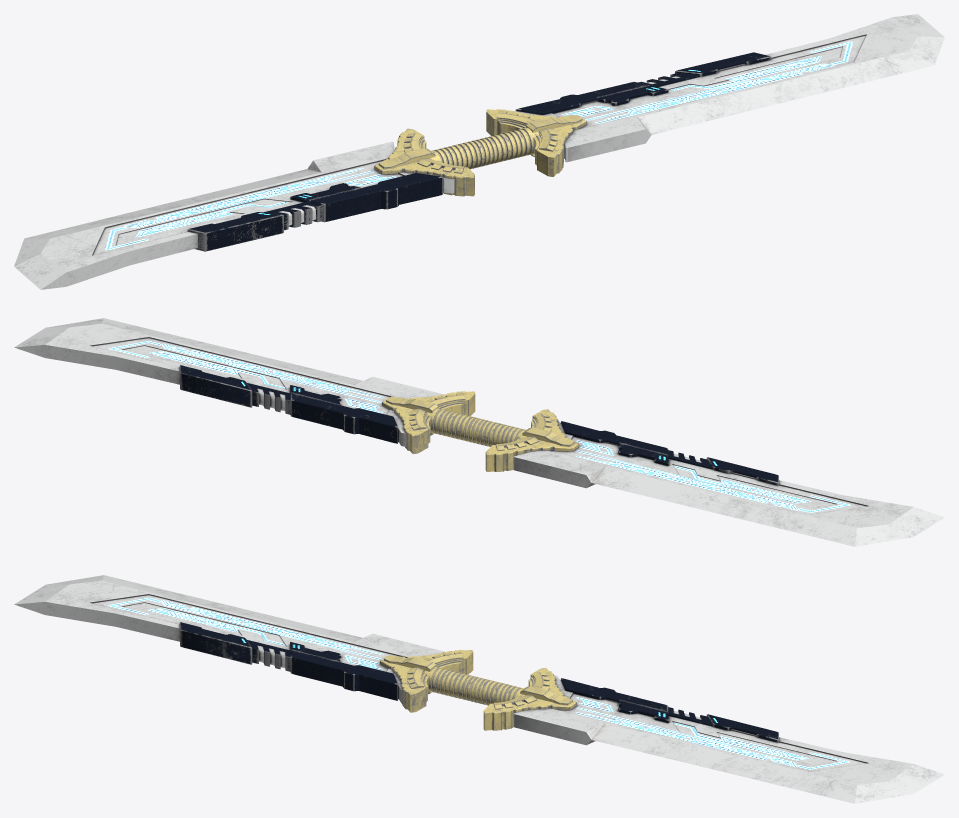
3 views of the same model, one above another, from view 1: azimuth 30°, elevation 25°; view 2: azimuth 150°, elevation 25°; view 3: azimuth 330°, elevation 25° (orthographic). The views are drawn at different scales.
Parts seen in each view (by area): view 1: Sword Right_low_23, Sword Left_low_24, Dull1 Left_low_16, Handle_high_19, Dull3 Left_low_18, Handguard Right_low_3, Dull1 Right_low_5, Handguard Right_low.001_22, Dull3 Right_low_6, Dull2 Left_low_17, Props Right1_low_4, Props Left1_low_11; view 2: Sword Left_low_24, Sword Right_low_23, Dull1 Right_low_5, Handle_high_19, Dull3 Right_low_6, Handguard Right_low_3, Dull1 Left_low_16, Handguard Right_low.001_22, Dull3 Left_low_18, Dull2 Right_low_9, Props Left1_low_11, Props Right1_low_4 (+1 smaller); view 3: Sword Right_low_23, Sword Left_low_24, Dull1 Left_low_16, Handle_high_19, Dull3 Left_low_18, Handguard Right_low.001_22, Dull1 Right_low_5, Handguard Right_low_3, Dull3 Right_low_6, Dull2 Left_low_17, Props Right1_low_4, Props Left1_low_11 (+1 smaller).
Boxes of the visible parts, x1,y1,x2,y2 form: Sword Right_low_23: [507, 14, 944, 162]; Sword Left_low_24: [14, 141, 454, 289]; Dull1 Left_low_16: [290, 173, 443, 222]; Handle_high_19: [430, 127, 539, 169]; Dull3 Left_low_18: [187, 212, 283, 251]; Handguard Right_low_3: [486, 109, 586, 176]; Dull1 Right_low_5: [515, 81, 668, 114]; Handguard Right_low.001_22: [374, 128, 474, 196]; Dull3 Right_low_6: [675, 52, 771, 76]; Dull2 Left_low_17: [263, 201, 323, 230]; Props Right1_low_4: [497, 111, 557, 151]; Props Left1_low_11: [404, 133, 464, 173]; Sword Left_low_24: [513, 419, 944, 546]; Sword Right_low_23: [14, 318, 442, 446]; Dull1 Right_low_5: [290, 385, 397, 443]; Handle_high_19: [426, 408, 526, 446]; Dull3 Right_low_6: [179, 365, 252, 407]; Handguard Right_low_3: [382, 391, 475, 453]; Dull1 Left_low_16: [561, 421, 668, 466]; Handguard Right_low.001_22: [485, 409, 578, 471]; Dull3 Left_low_18: [706, 457, 779, 485]; Dull2 Right_low_9: [247, 383, 290, 414]; Props Left1_low_11: [495, 413, 551, 450]; Props Right1_low_4: [409, 393, 465, 430]; Sword Right_low_23: [513, 675, 944, 803]; Sword Left_low_24: [14, 575, 444, 703]; Dull1 Left_low_16: [290, 642, 397, 700]; Handle_high_19: [424, 667, 525, 705]; Dull3 Left_low_18: [179, 622, 252, 664]; Handguard Right_low.001_22: [380, 650, 473, 712]; Dull1 Right_low_5: [561, 678, 668, 723]; Handguard Right_low_3: [483, 668, 576, 730]; Dull3 Right_low_6: [706, 714, 779, 742]; Dull2 Left_low_17: [247, 640, 290, 671]; Props Right1_low_4: [493, 672, 549, 709]; Props Left1_low_11: [407, 652, 463, 688].
Bounding box in the file's own units: 4.93 × 0.1522 × 0.6052.
Materials: 6 (6 with a texture image).
